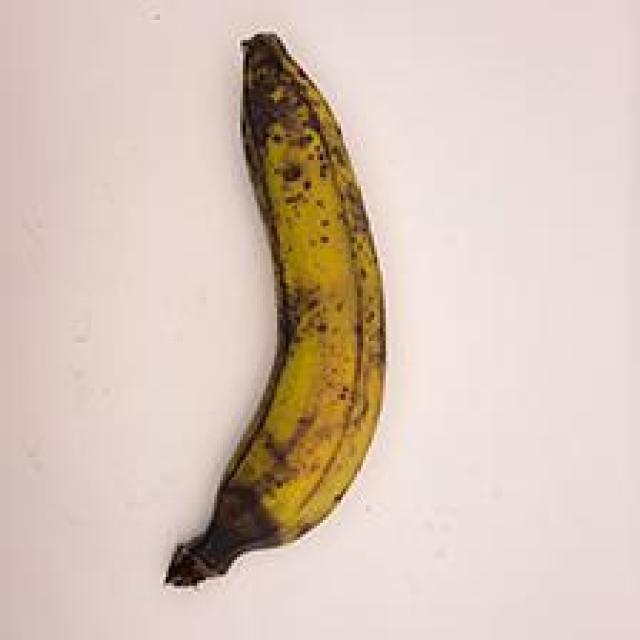Overripe: (155, 0, 396, 601)
